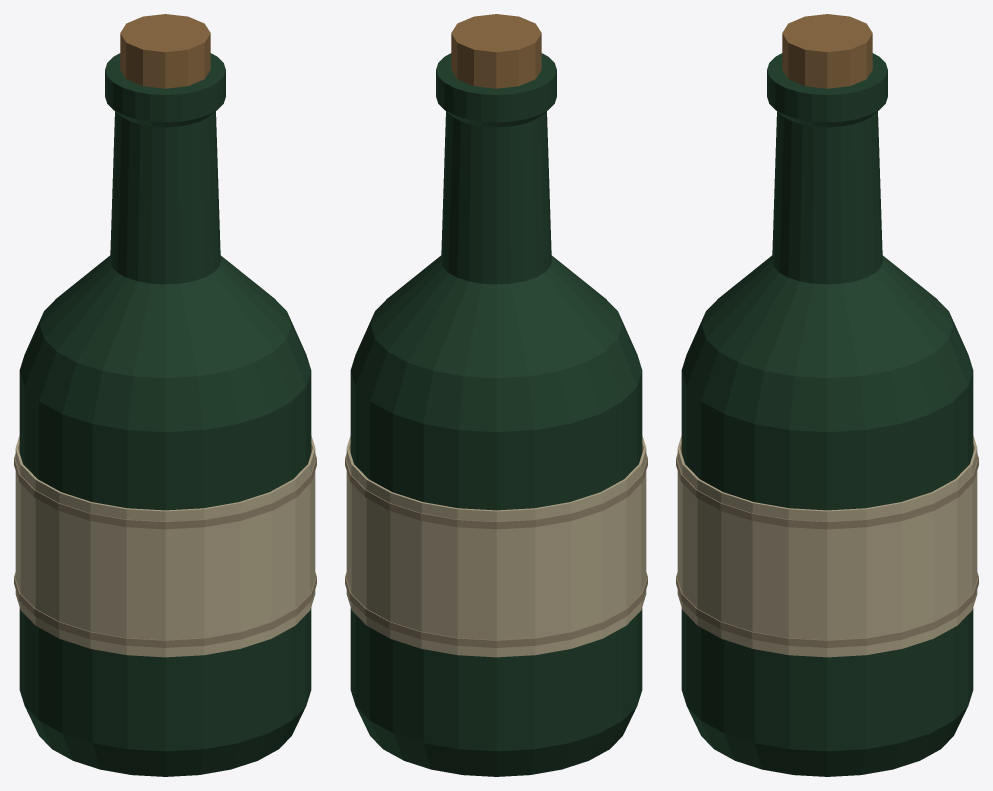
Rendered from GreenBottle.glb.
The picture shows the model from 3 angles, left to right: view 1: azimuth 30°, elevation 25°; view 2: azimuth 150°, elevation 25°; view 3: azimuth 270°, elevation 25°; orthographic projection.
Visible parts, largest first — view 1: BottleBody, BlankPaperBand, CorkStopper, LabelBorder.001, LabelBorder; view 2: BottleBody, BlankPaperBand, CorkStopper, LabelBorder.001, LabelBorder; view 3: BottleBody, BlankPaperBand, CorkStopper, LabelBorder.001, LabelBorder.
Boxes of the visible parts, x1,y1,x2,y2 form: BottleBody: [19, 53, 311, 776]; BlankPaperBand: [15, 435, 315, 657]; CorkStopper: [120, 14, 210, 88]; LabelBorder.001: [14, 453, 316, 529]; LabelBorder: [14, 572, 316, 647]; BottleBody: [350, 53, 642, 776]; BlankPaperBand: [346, 435, 646, 657]; CorkStopper: [451, 14, 541, 88]; LabelBorder.001: [345, 453, 647, 529]; LabelBorder: [345, 572, 647, 647]; BottleBody: [681, 53, 973, 776]; BlankPaperBand: [677, 435, 977, 657]; CorkStopper: [782, 14, 872, 88]; LabelBorder.001: [676, 453, 978, 529]; LabelBorder: [676, 572, 978, 647].
Size of the model in its own units: 0.602 by 1.51 by 0.602.
